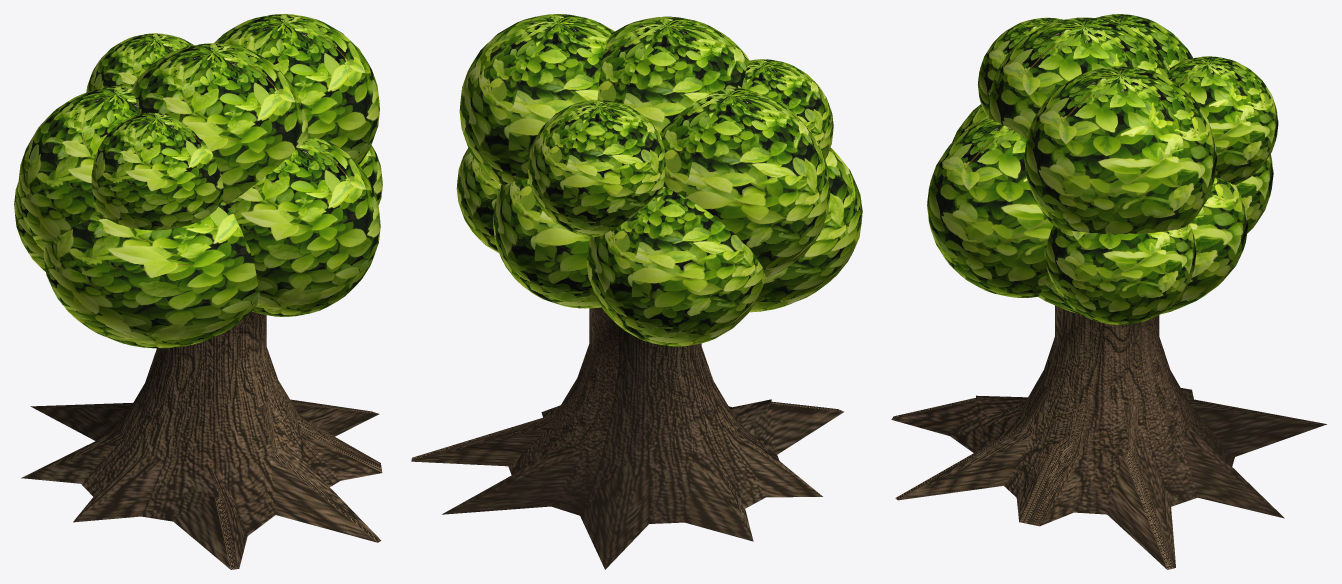
File: SummerTree.FBX
The picture shows the model from 3 angles, left to right: view 1: azimuth 30°, elevation 25°; view 2: azimuth 150°, elevation 25°; view 3: azimuth 270°, elevation 25°; orthographic projection. The views are drawn at different scales.
Visible parts, largest first — view 1: Cone001wfwe, Sphere003, Sphere008, Sphere007, Sphere012, Sphere010, Sphere006, Sphere009, Sphere005, Sphere011; view 2: Cone001wfwe, Sphere006, Sphere005, Sphere010, Sphere009, Sphere007, Sphere004, Sphere003, Sphere012, Sphere011; view 3: Cone001wfwe, Sphere010, Sphere008, Sphere011, Sphere007, Sphere009, Sphere004, Sphere012, Sphere006, Sphere005.
Part boxes in pixels (bbox=[...]): Cone001wfwe: bbox=[21, 311, 382, 569]; Sphere003: bbox=[43, 202, 258, 348]; Sphere008: bbox=[229, 136, 380, 316]; Sphere007: bbox=[132, 43, 308, 203]; Sphere012: bbox=[91, 112, 223, 230]; Sphere010: bbox=[214, 14, 379, 164]; Sphere006: bbox=[18, 86, 140, 250]; Sphere009: bbox=[86, 33, 193, 92]; Sphere005: bbox=[14, 182, 45, 271]; Sphere011: bbox=[359, 145, 382, 204]; Cone001wfwe: bbox=[411, 307, 843, 569]; Sphere006: bbox=[660, 88, 830, 276]; Sphere005: bbox=[586, 186, 765, 346]; Sphere010: bbox=[459, 14, 614, 184]; Sphere009: bbox=[528, 100, 665, 236]; Sphere007: bbox=[597, 16, 749, 133]; Sphere004: bbox=[493, 178, 601, 308]; Sphere003: bbox=[749, 147, 862, 312]; Sphere012: bbox=[742, 59, 833, 159]; Sphere011: bbox=[456, 148, 500, 252]; Cone001wfwe: bbox=[891, 305, 1326, 569]; Sphere010: bbox=[1024, 66, 1216, 233]; Sphere008: bbox=[927, 118, 1053, 297]; Sphere011: bbox=[1045, 224, 1196, 324]; Sphere007: bbox=[987, 17, 1169, 137]; Sphere009: bbox=[1168, 56, 1278, 185]; Sphere004: bbox=[1038, 176, 1248, 314]; Sphere012: bbox=[977, 17, 1063, 115]; Sphere006: bbox=[1095, 14, 1192, 67]; Sphere005: bbox=[1235, 154, 1273, 233].
Bounding box in the file's own units: 467 × 526 × 470.
2 materials, 2 textured.
